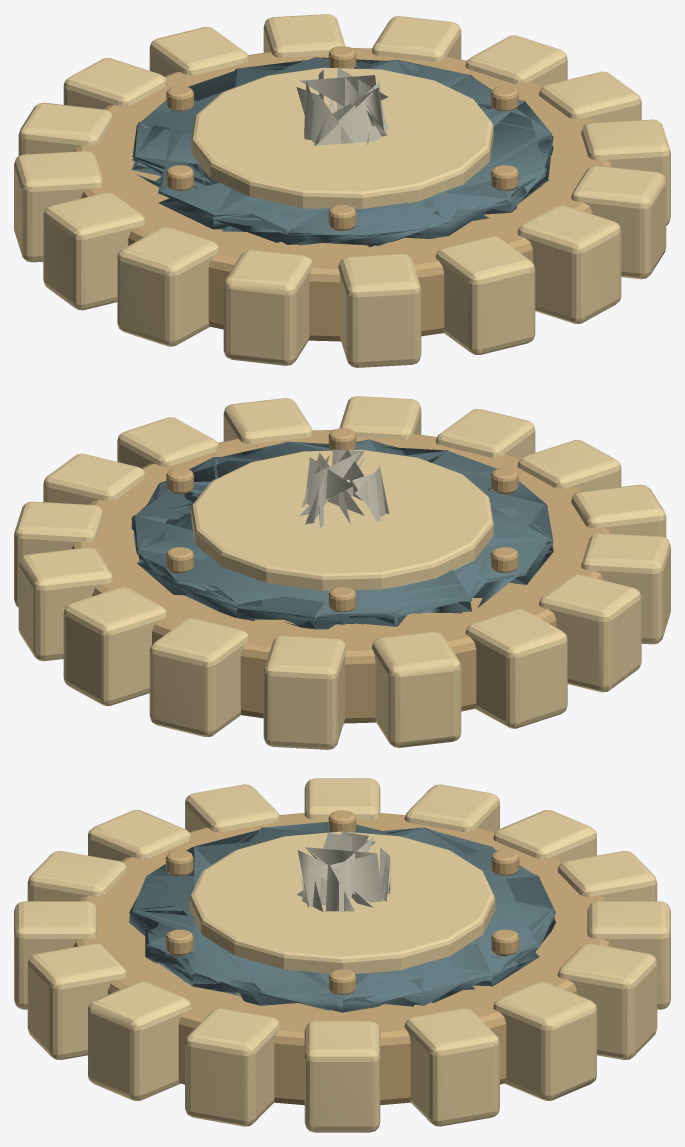
File: drive.glb
The picture shows the model from 3 angles, top to bottom: view 1: azimuth 30°, elevation 25°; view 2: azimuth 150°, elevation 25°; view 3: azimuth 270°, elevation 25°; orthographic projection.
Visible parts, largest first — view 1: Surface_PolishedRim, Surface_Brass, Surface_Iron, Surface_Ivory; view 2: Surface_PolishedRim, Surface_Brass, Surface_Iron, Surface_Ivory; view 3: Surface_PolishedRim, Surface_Brass, Surface_Iron, Surface_Ivory.
Boxes of the visible parts, <box> form: Surface_PolishedRim: <box>14,14,670,367</box>; Surface_Brass: <box>74,46,612,341</box>; Surface_Iron: <box>131,57,553,247</box>; Surface_Ivory: <box>296,67,388,145</box>; Surface_PolishedRim: <box>14,396,670,749</box>; Surface_Brass: <box>72,428,610,723</box>; Surface_Iron: <box>131,439,553,629</box>; Surface_Ivory: <box>299,449,389,528</box>; Surface_PolishedRim: <box>14,778,670,1132</box>; Surface_Brass: <box>73,810,611,1105</box>; Surface_Iron: <box>129,822,555,1012</box>; Surface_Ivory: <box>295,831,390,912</box>.
Bounding box in the file's own units: 1.65 × 0.415 × 1.65.
